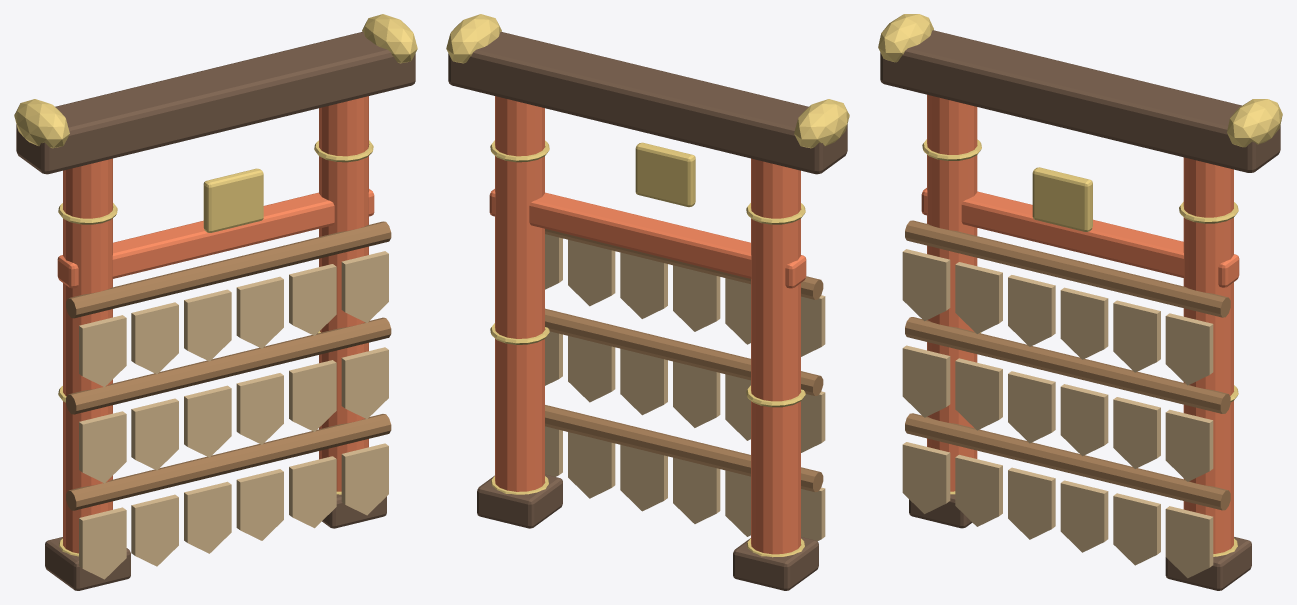
Rendered from ritual_ema_stand.glb.
The picture shows the model from 3 angles, left to right: view 1: azimuth 30°, elevation 25°; view 2: azimuth 150°, elevation 25°; view 3: azimuth 330°, elevation 25°; orthographic projection.
Parts seen in each view (by area): view 1: Shrine hanging offerings rack kasagi upper crossbeam, Shrine hanging offerings rack lacquered main pillar, Shrine hanging offerings rack lacquered main pillar.001, Shrine hanging offerings rack nuki secondary beam, Horizontal offering rack.002, Horizontal offering rack, Horizontal offering rack.001, Shrine hanging offerings rack traditional central plate, Individual votive ema plaque.005, Individual votive ema plaque.013, Individual votive ema plaque.002, Individual votive ema plaque.007 (+18 smaller); view 2: Shrine hanging offerings rack kasagi upper crossbeam, Shrine hanging offerings rack lacquered main pillar, Shrine hanging offerings rack lacquered main pillar.001, Shrine hanging offerings rack nuki secondary beam, Horizontal offering rack, Horizontal offering rack.001, Shrine hanging offerings rack traditional central plate, Shrine hanging offerings rack black foot.001, Shrine hanging offerings rack black foot, Individual votive ema plaque.016, Individual votive ema plaque.002, Individual votive ema plaque.008 (+18 smaller); view 3: Shrine hanging offerings rack kasagi upper crossbeam, Shrine hanging offerings rack lacquered main pillar.001, Shrine hanging offerings rack lacquered main pillar, Shrine hanging offerings rack nuki secondary beam, Horizontal offering rack.002, Horizontal offering rack, Horizontal offering rack.001, Shrine hanging offerings rack traditional central plate, Individual votive ema plaque.005, Individual votive ema plaque, Individual votive ema plaque.011, Individual votive ema plaque.015 (+18 smaller).
Boxes of the visible parts, left/top/right/bottom form: Shrine hanging offerings rack kasagi upper crossbeam: left=16, top=31, right=415, bottom=174; Shrine hanging offerings rack lacquered main pillar: left=63, top=158, right=112, bottom=553; Shrine hanging offerings rack lacquered main pillar.001: left=319, top=96, right=368, bottom=491; Shrine hanging offerings rack nuki secondary beam: left=57, top=189, right=374, bottom=288; Horizontal offering rack.002: left=66, top=221, right=391, bottom=318; Horizontal offering rack: left=66, top=414, right=391, bottom=510; Horizontal offering rack.001: left=66, top=317, right=391, bottom=414; Shrine hanging offerings rack traditional central plate: left=203, top=168, right=263, bottom=232; Individual votive ema plaque.005: left=341, top=443, right=388, bottom=515; Individual votive ema plaque.013: left=131, top=302, right=178, bottom=373; Individual votive ema plaque.002: left=184, top=481, right=231, bottom=553; Individual votive ema plaque.007: left=131, top=398, right=178, bottom=470; Shrine hanging offerings rack kasagi upper crossbeam: left=448, top=31, right=847, bottom=174; Shrine hanging offerings rack lacquered main pillar: left=751, top=158, right=800, bottom=554; Shrine hanging offerings rack lacquered main pillar.001: left=495, top=96, right=544, bottom=491; Shrine hanging offerings rack nuki secondary beam: left=489, top=189, right=806, bottom=288; Horizontal offering rack: left=545, top=405, right=823, bottom=492; Horizontal offering rack.001: left=545, top=308, right=823, bottom=395; Shrine hanging offerings rack traditional central plate: left=635, top=142, right=695, bottom=207; Shrine hanging offerings rack black foot.001: left=477, top=474, right=562, bottom=528; Shrine hanging offerings rack black foot: left=733, top=537, right=818, bottom=590; Individual votive ema plaque.016: left=568, top=239, right=615, bottom=306; Individual votive ema plaque.002: left=673, top=457, right=720, bottom=523; Individual votive ema plaque.008: left=673, top=361, right=720, bottom=427; Shrine hanging offerings rack kasagi upper crossbeam: left=880, top=30, right=1280, bottom=172; Shrine hanging offerings rack lacquered main pillar.001: left=1183, top=157, right=1233, bottom=553; Shrine hanging offerings rack lacquered main pillar: left=927, top=94, right=977, bottom=491; Shrine hanging offerings rack nuki secondary beam: left=921, top=188, right=1239, bottom=287; Horizontal offering rack.002: left=905, top=220, right=1230, bottom=317; Horizontal offering rack: left=905, top=413, right=1230, bottom=510; Horizontal offering rack.001: left=905, top=317, right=1230, bottom=413; Shrine hanging offerings rack traditional central plate: left=1032, top=167, right=1092, bottom=231; Individual votive ema plaque.005: left=1165, top=506, right=1213, bottom=578; Individual votive ema plaque: left=902, top=442, right=950, bottom=513; Individual votive ema plaque.011: left=1165, top=409, right=1213, bottom=481; Individual votive ema plaque.015: left=1060, top=287, right=1108, bottom=359.
Bounding box in the file's own units: 1.63 × 1.95 × 0.3096.
